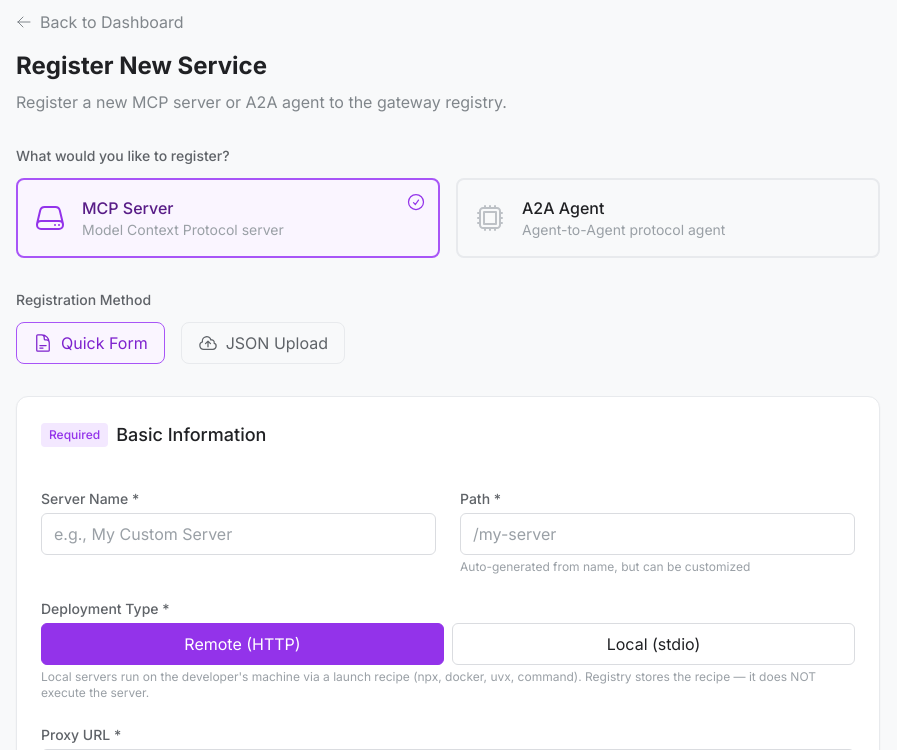
Test case: RegisterPage › auto-generates the server path from the name
The width and height of the screenshot is (897, 750).
Step 1. Type "My Cool Server" into the field with placeholder "e.g., My Custom Server" → (238, 534), box x1=41 y1=513 x2=436 y2=555
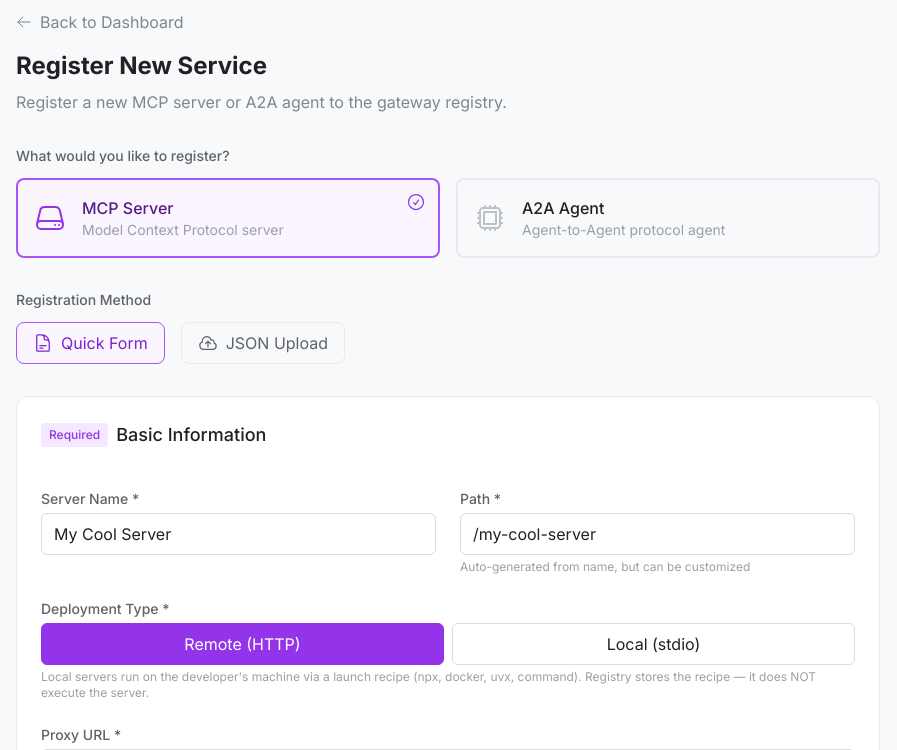
Now the field showing "my-cool-server" below "Path *" is shown, box x1=460 y1=513 x2=855 y2=555
